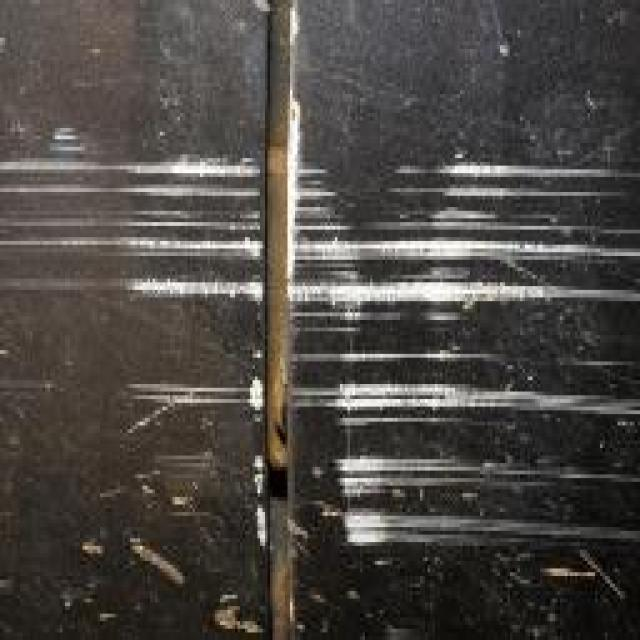Door: (280, 34, 638, 640), (0, 98, 260, 640)
